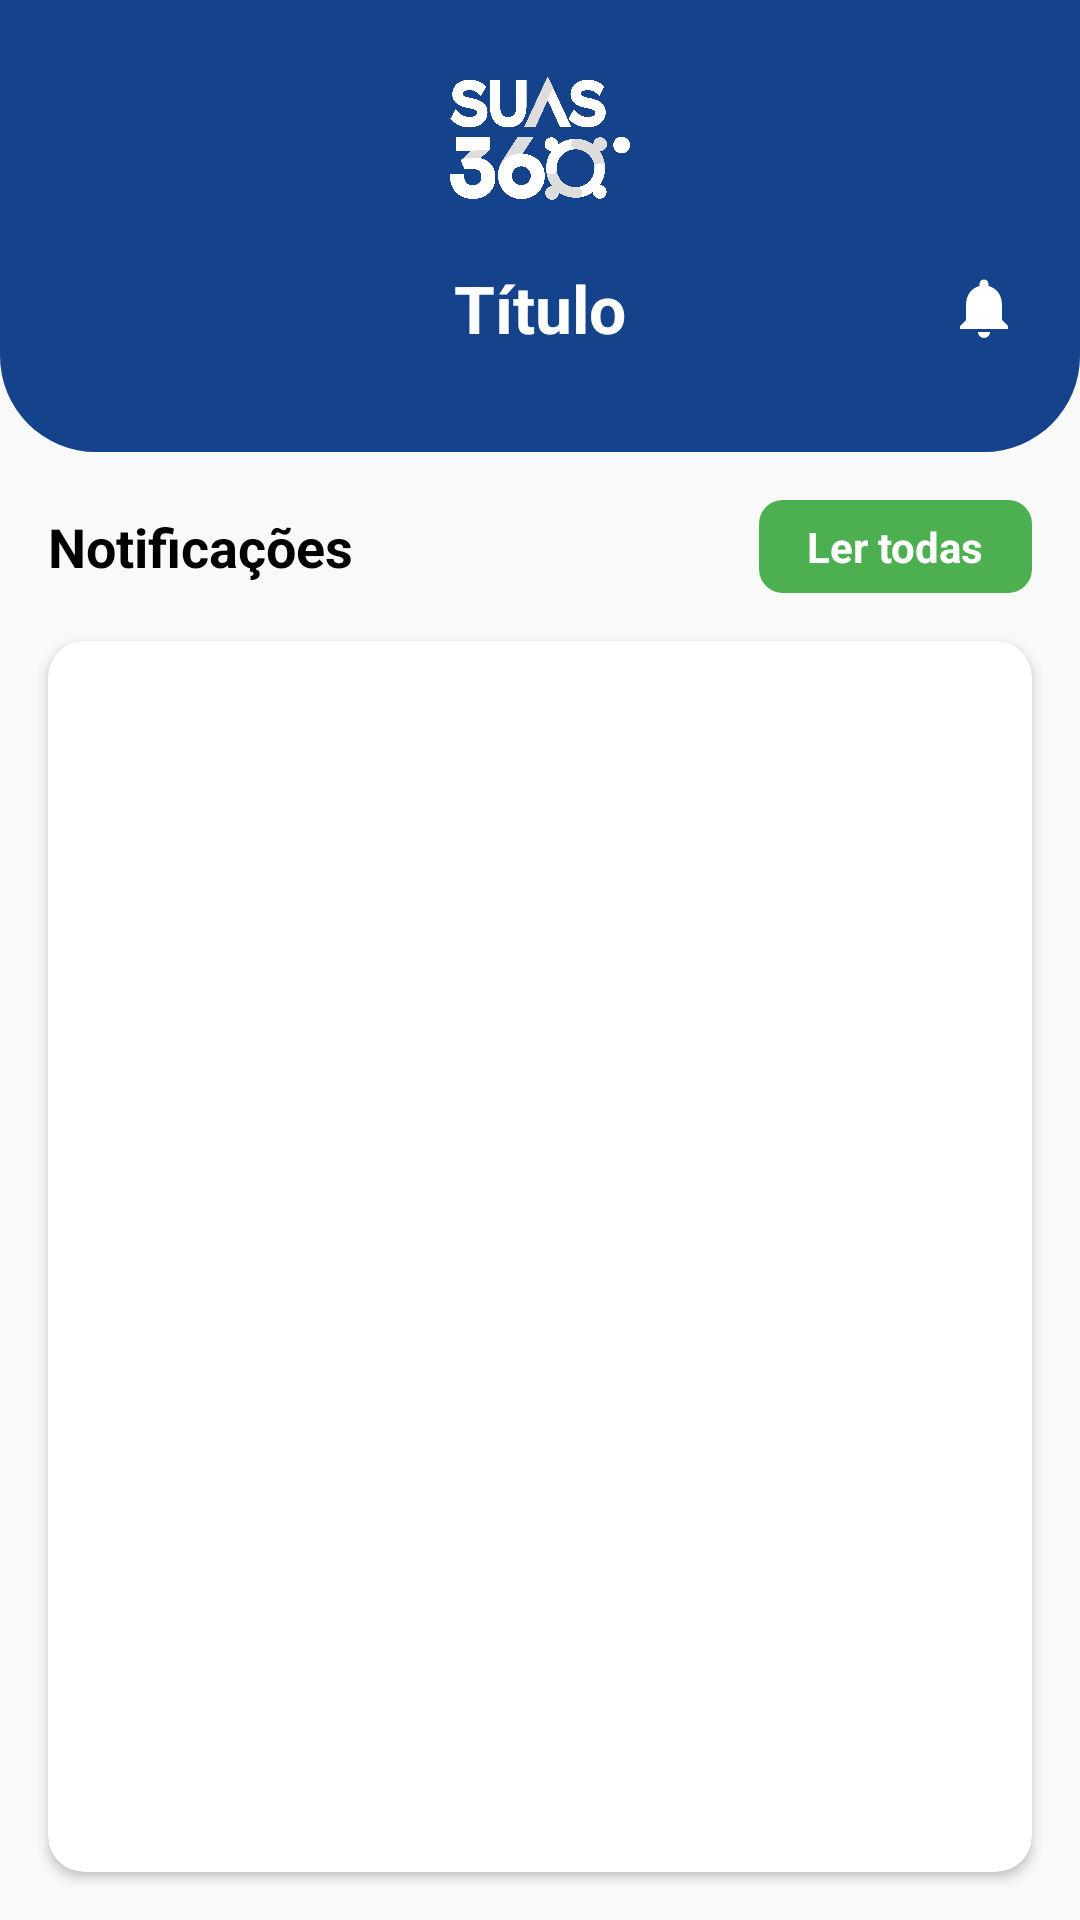

Named icons in this screenshot (1080px x 1920px) and their centers, (x=x, y=y):
Notificações: (x=984, y=308)
